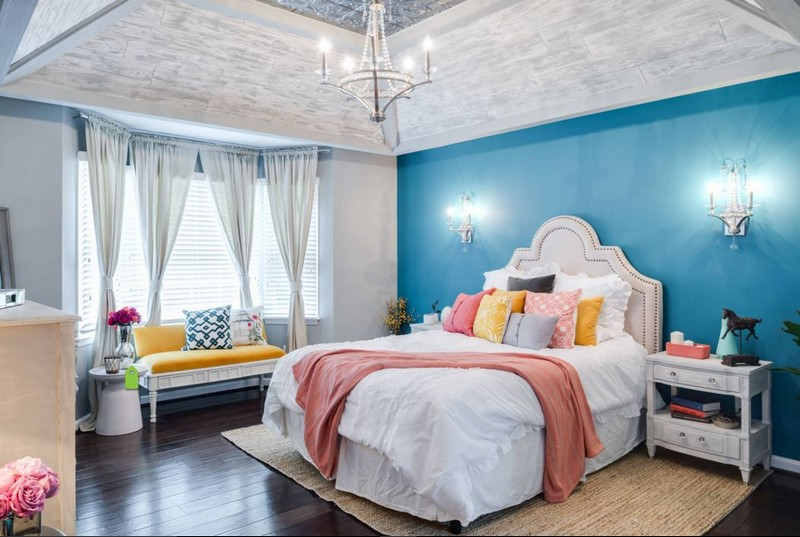bed: (283, 222, 659, 515)
lamp: (704, 158, 762, 259), (438, 192, 493, 259)
sofa: (130, 322, 287, 414)
stool: (647, 343, 771, 485), (89, 358, 145, 440)
